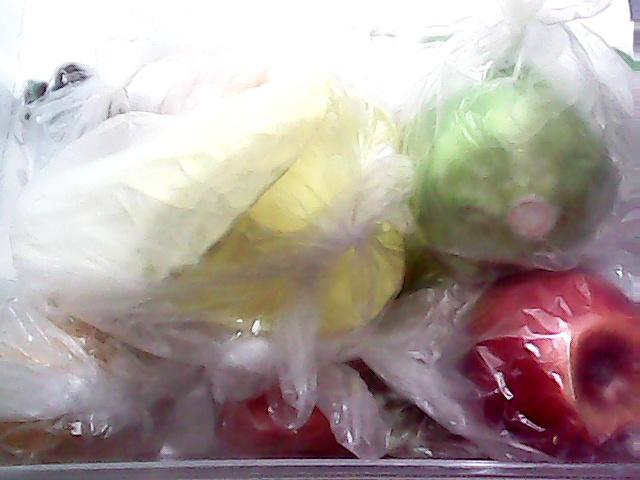apple: (448, 248, 640, 464)
cabbage: (400, 38, 620, 262)
grape: (321, 343, 454, 457), (10, 53, 138, 115)
napa cabbage: (11, 74, 477, 358)
peach: (210, 328, 382, 458)
potato: (1, 288, 180, 464)
